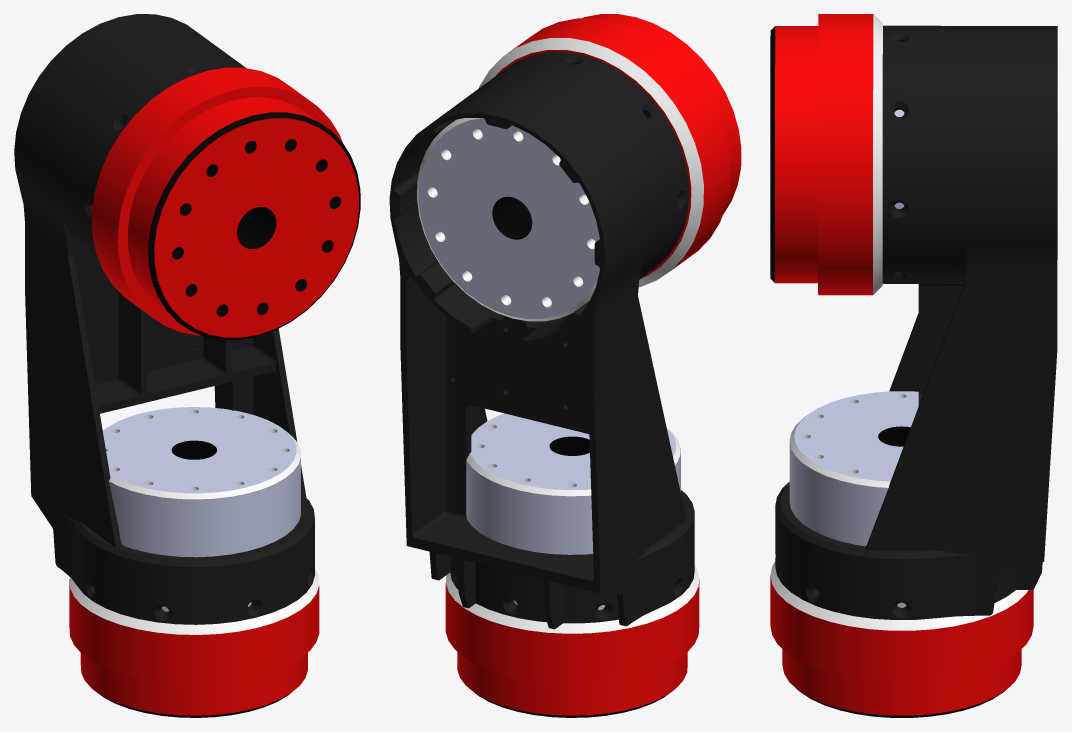
Rendered from leftarm_link2.obj.
3 renders of one model, left to right at view 1: azimuth 30°, elevation 25°; view 2: azimuth 150°, elevation 25°; view 3: azimuth 270°, elevation 25°, orthographic. The views are drawn at different scales.
Parts seen in each view (by area): view 1: object 1, 2ת3; view 2: 2ת3, object 1; view 3: 2ת3, object 1.
Part boxes in pixels (box(x1,y1,x2,y2)): object 1: box(69, 67, 360, 717); 2ת3: box(14, 14, 314, 624); 2ת3: box(389, 51, 694, 629); object 1: box(417, 14, 741, 717); 2ת3: box(775, 25, 1057, 619); object 1: box(770, 14, 1033, 717).
Size of the model in its own units: 0.1178 by 0.2965 by 0.1202.
